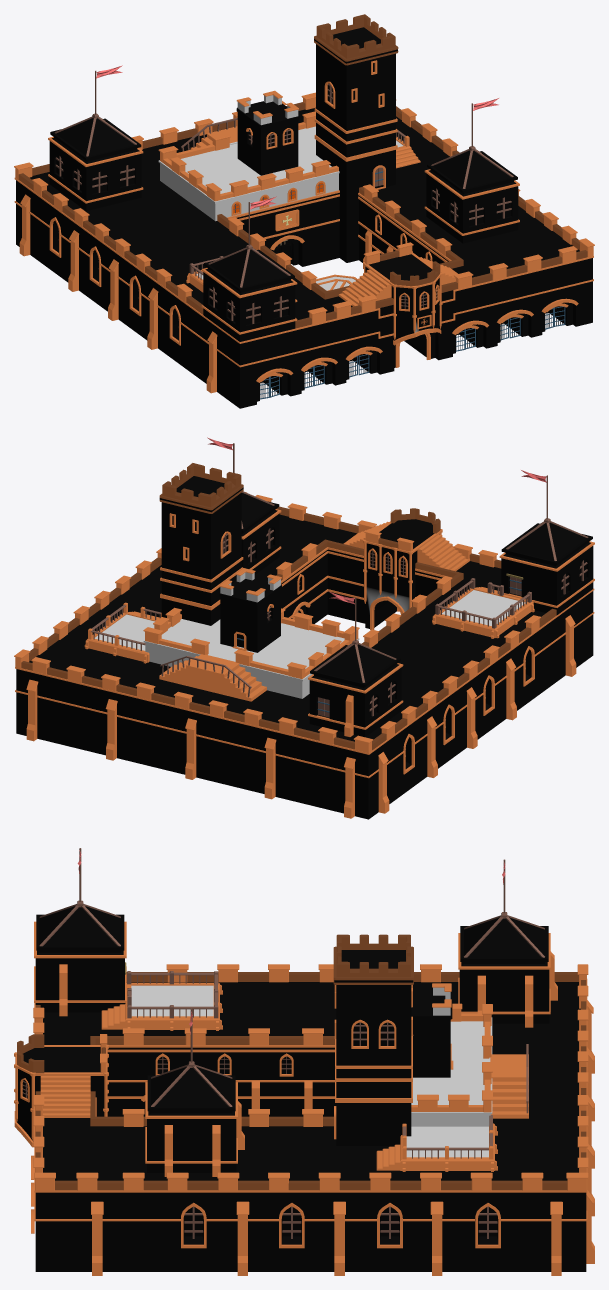
Rendered from crusader_headquarter.bk.FBX.
The picture shows the model from 3 angles, top to bottom: view 1: azimuth 30°, elevation 25°; view 2: azimuth 150°, elevation 25°; view 3: azimuth 270°, elevation 25°; orthographic projection. The views are drawn at different scales.
Parts seen in each view (by area): view 1: crusader_headquarter; view 2: crusader_headquarter; view 3: crusader_headquarter.
Boxes of the visible parts, x1,y1,x2,y2 form: crusader_headquarter: (14,14,594,408); crusader_headquarter: (14,437,594,819); crusader_headquarter: (14,848,594,1275).
Bounding box in the file's own units: 5169 × 2921 × 5803.
